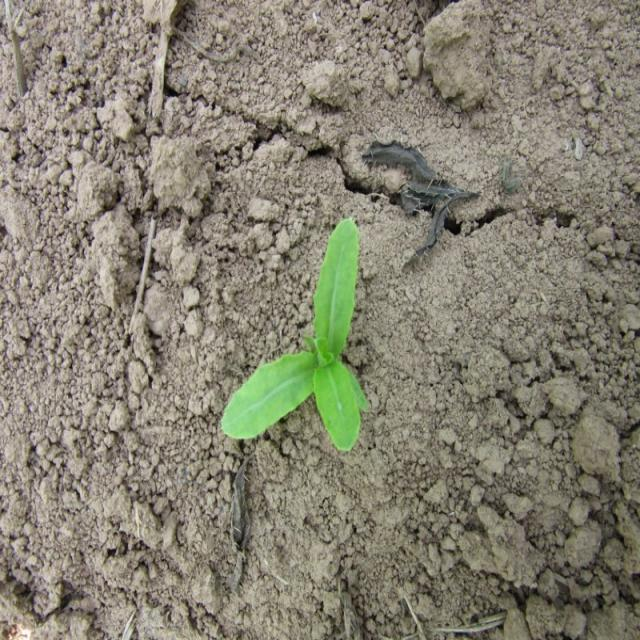field_thistle: (200, 206, 400, 457)
